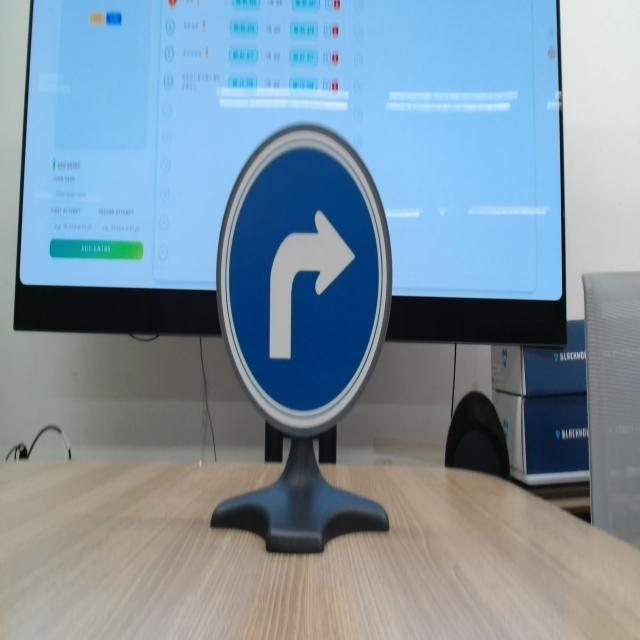right_dierection: (204, 107, 408, 466)
